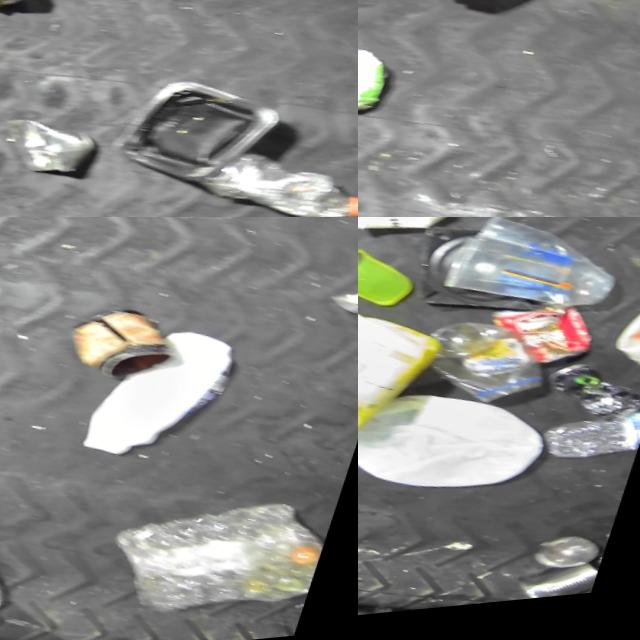can: (59, 297, 193, 403), (482, 296, 612, 390), (539, 360, 640, 443), (0, 110, 103, 188), (522, 557, 615, 611), (330, 291, 358, 341)
milk_jug: (358, 369, 570, 529)
non_white_jug: (358, 293, 459, 470), (358, 22, 399, 138)
plastic_bottle: (201, 141, 358, 217), (540, 397, 640, 487)
